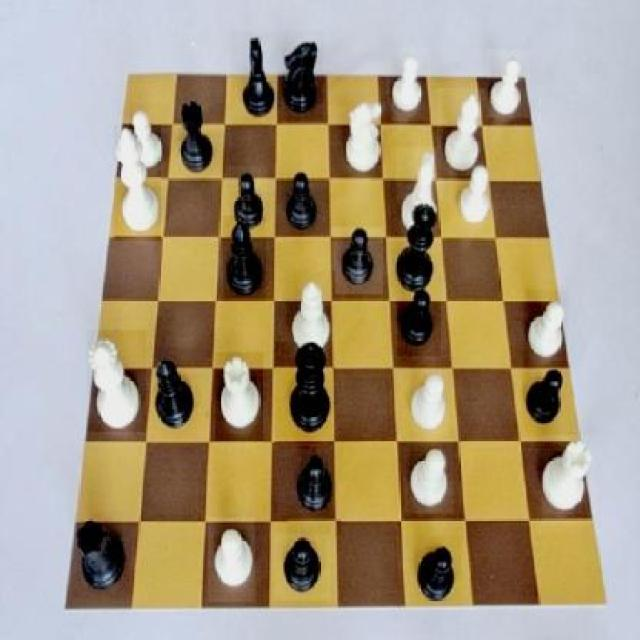bishop: (146, 348, 199, 440), (223, 217, 266, 303)
black-bishop: (276, 341, 336, 444)
black-king: (231, 31, 283, 124), (283, 31, 323, 120)
black-knight: (288, 454, 342, 526), (274, 534, 331, 600), (522, 363, 572, 436), (414, 536, 461, 608), (332, 228, 382, 294), (397, 286, 440, 356), (280, 166, 326, 229), (225, 166, 267, 233)
black-pawn: (388, 200, 444, 299)
black-queen: (74, 510, 131, 598), (175, 97, 218, 185)
black-rook: (286, 270, 336, 362), (437, 89, 487, 177)
white-bishop: (114, 126, 160, 240)
white-king: (338, 94, 392, 180), (397, 147, 445, 240)
white-knight: (208, 517, 255, 601), (398, 370, 448, 442), (406, 440, 454, 514), (524, 290, 568, 368), (386, 48, 431, 120), (449, 162, 498, 226), (128, 103, 168, 177), (486, 51, 529, 118)
white-pawn: (86, 329, 146, 432)
white-queen: (543, 436, 597, 526), (215, 352, 263, 440)
